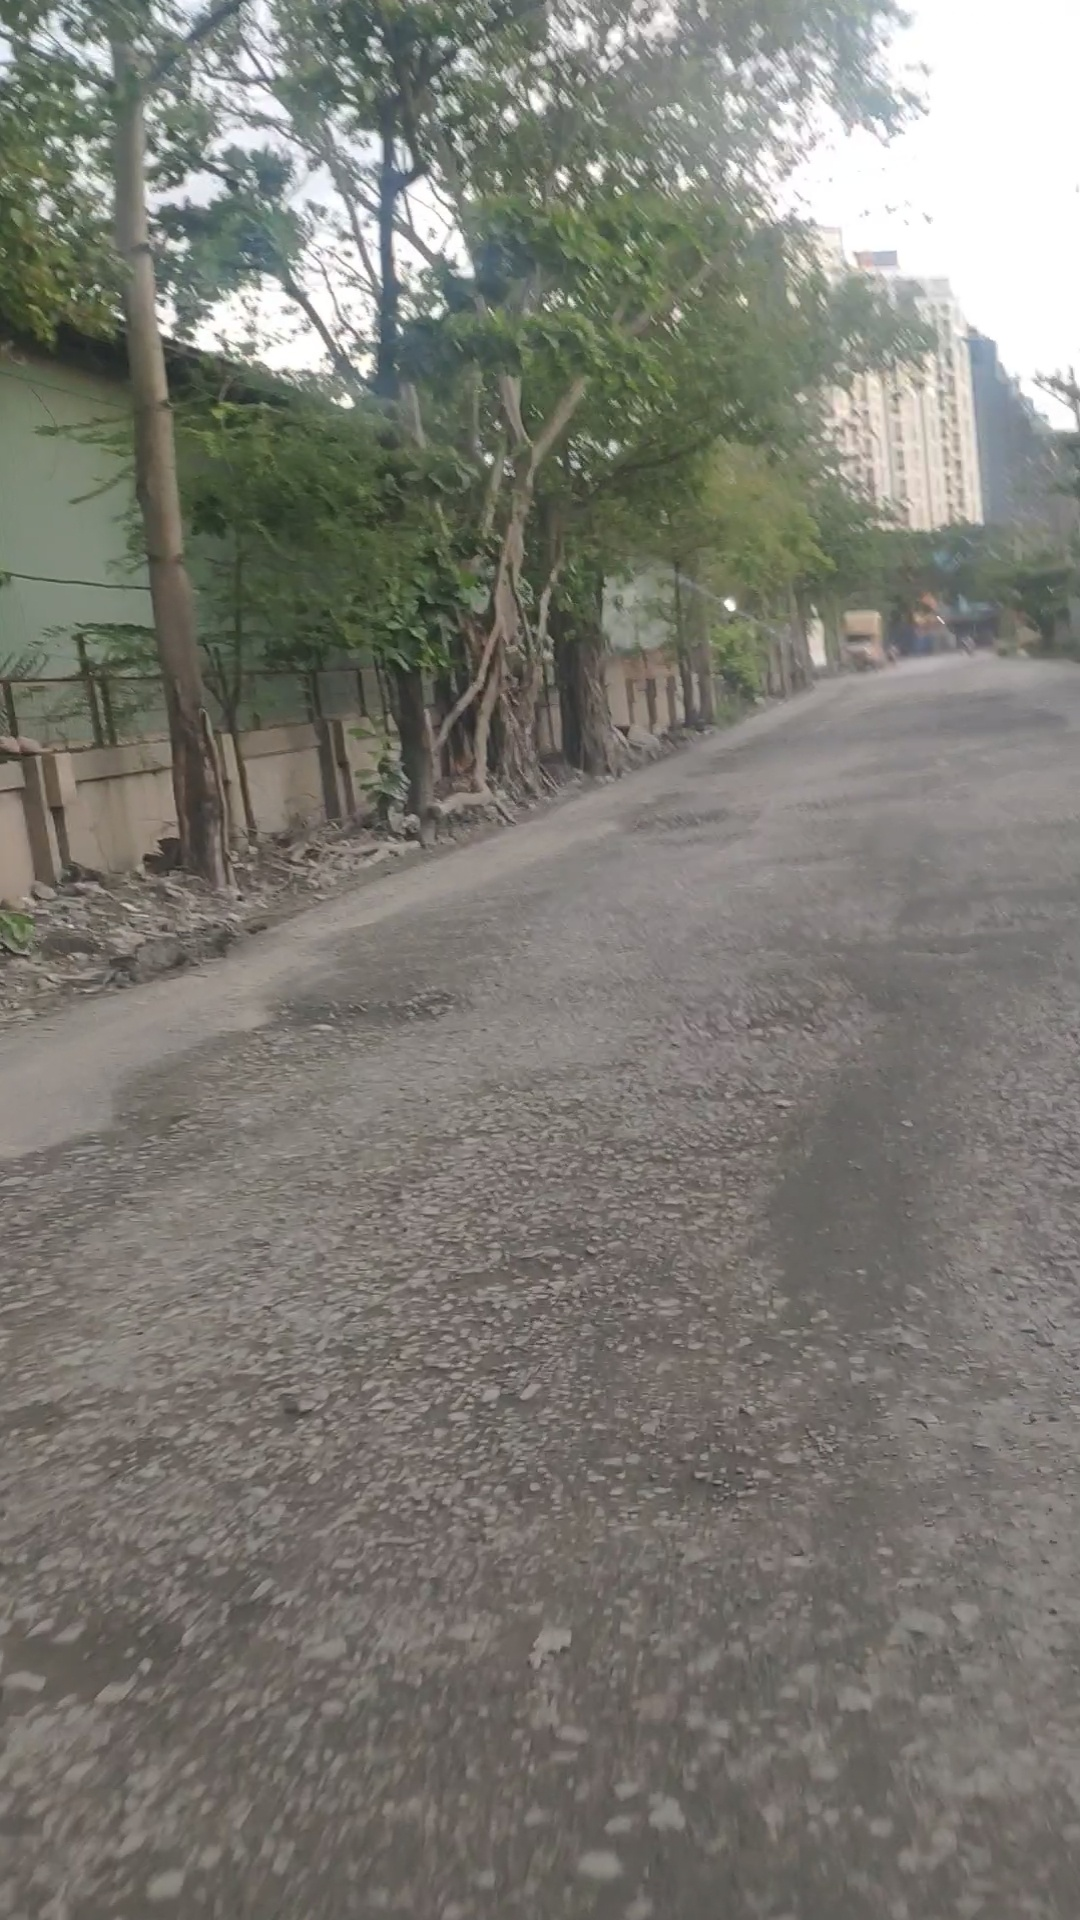hole: (644, 956, 907, 1098), (860, 874, 1080, 964), (243, 978, 469, 1056), (621, 802, 738, 837), (746, 843, 873, 874), (779, 787, 893, 820)
